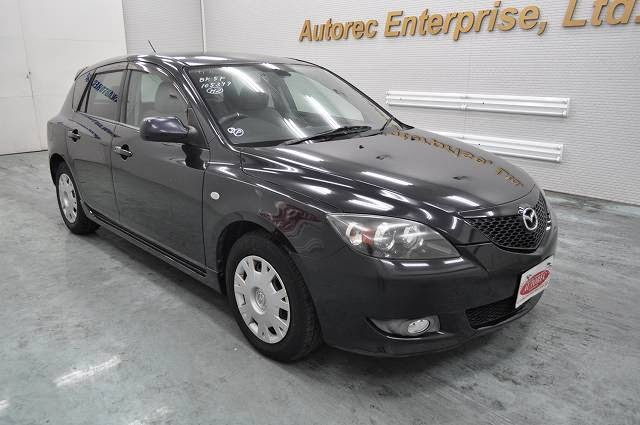Mazda3 Hatchback: (46, 52, 559, 365)
